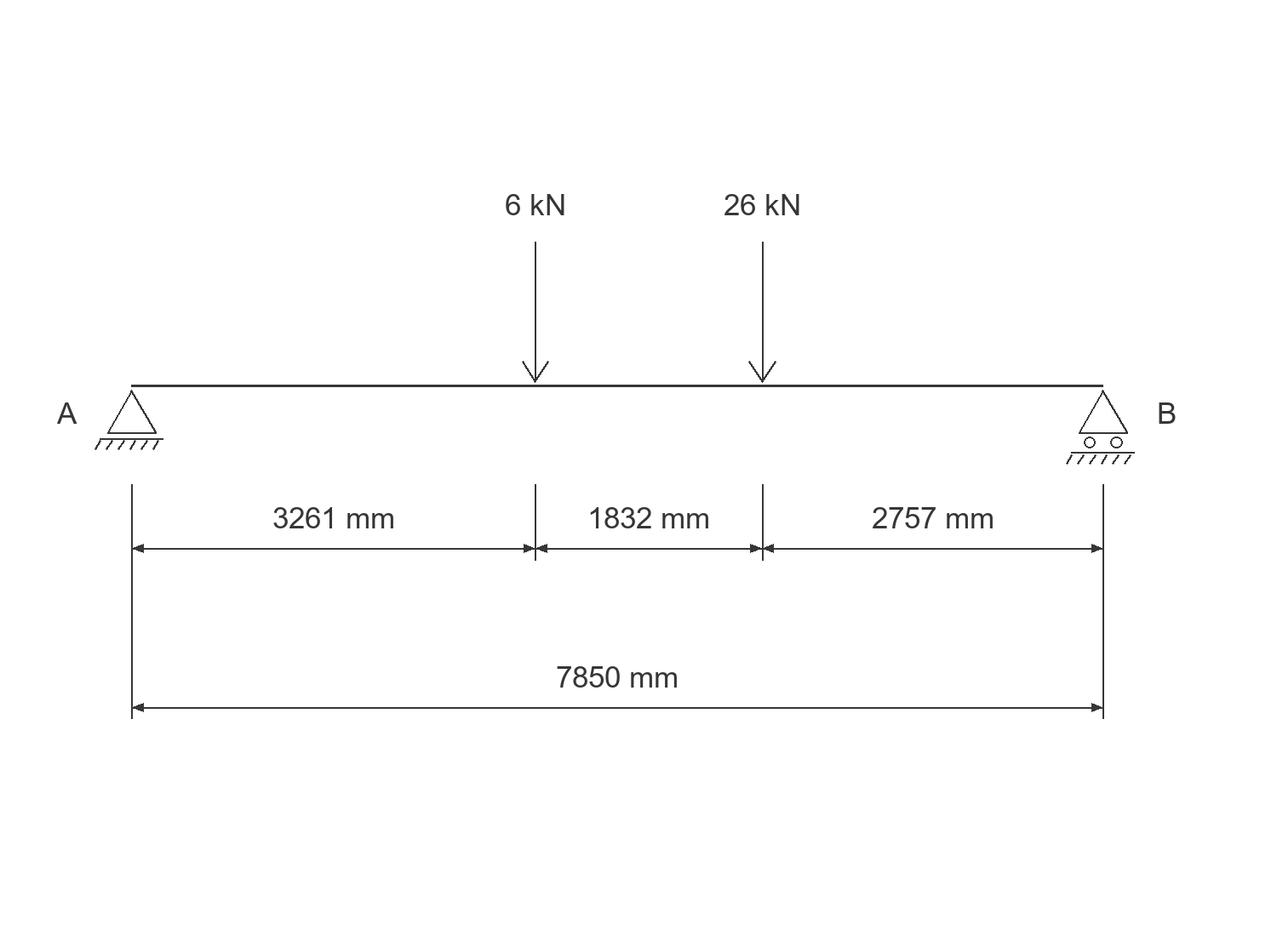pin_support: (94, 390, 163, 450)
point_load: (748, 242, 776, 383), (522, 242, 549, 383)
roller_support: (1066, 390, 1135, 465)
